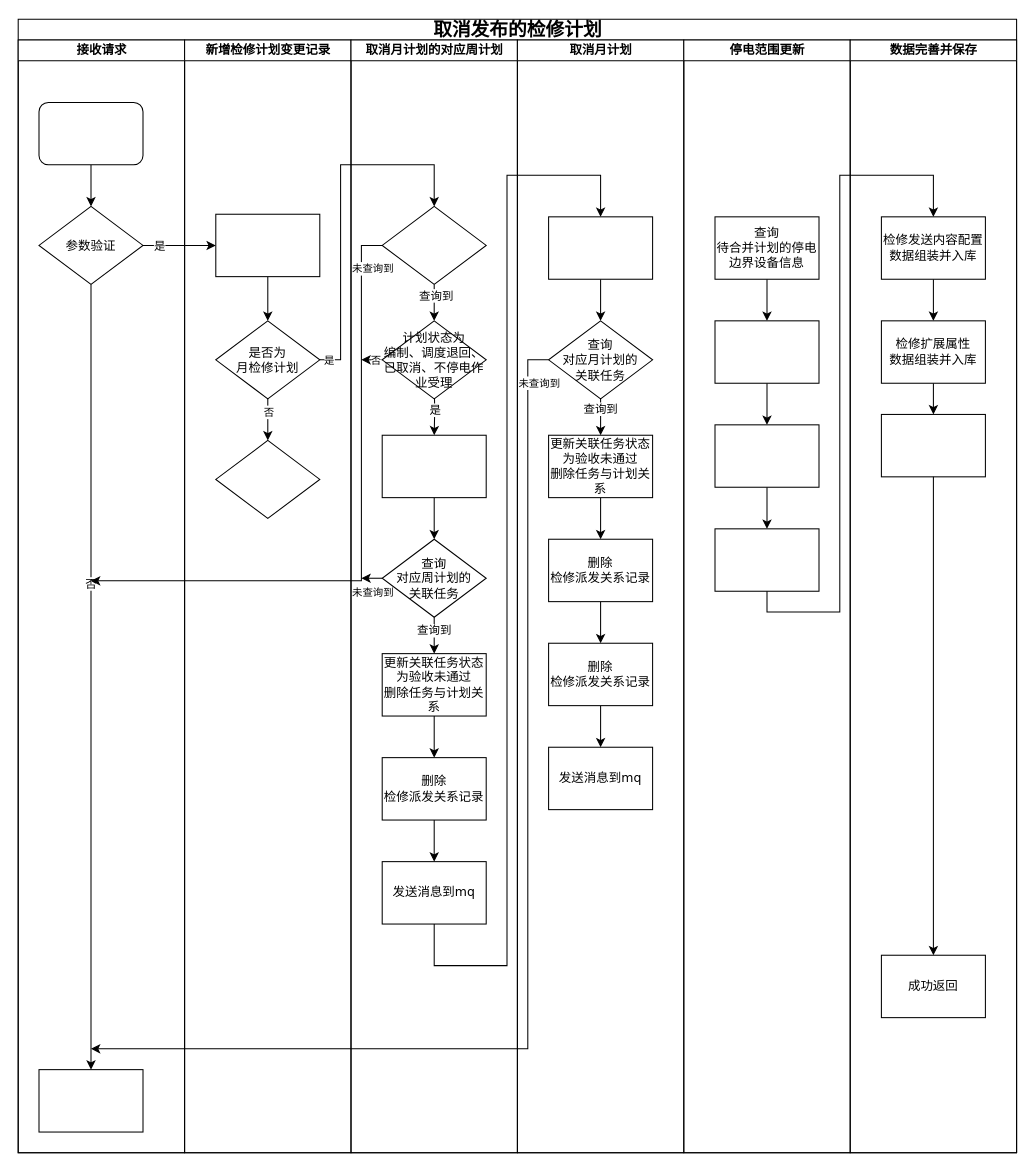
Some shapes in this 1035 by 1171 pixel diagram are drawn without their labels. Each missing label, with the centre of its shape:
保存新计划的 检修计划停电范围: pixel 766 559
保存新计划的停电边界设备: pixel 766 351
失败返回: pixel 90 1100
开始: pixel 90 133
新增 检修计划变更记录: pixel 267 245
是否为 周、临时、日期停电、抢修计划: pixel 267 478
更新 对应周计划的 状态为已取消: pixel 433 466
更新 月计划的 状态为已取消: pixel 600 247
构建检修计划变更数据并入库: pixel 932 445
查询 对应的周计划: pixel 433 244
查询 待合并计划的检修计划停电范围信息: pixel 766 455
